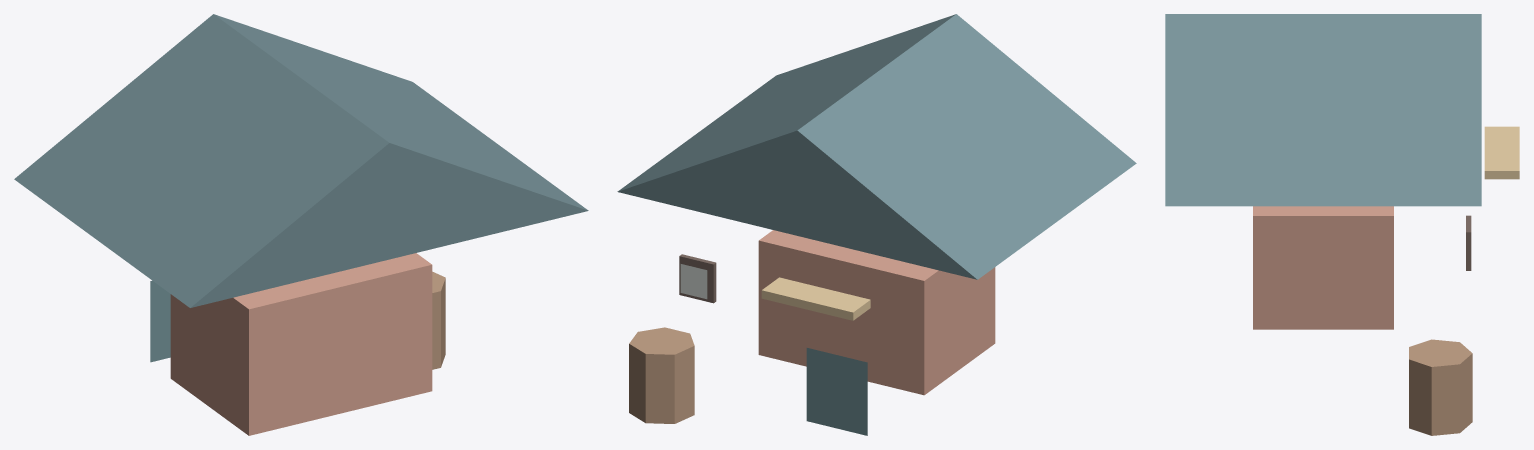
Rendered from harbour-repair-workshop-01.glb.
3 views of the same model, side by side, from view 1: azimuth 30°, elevation 25°; view 2: azimuth 150°, elevation 25°; view 3: azimuth 270°, elevation 25° (orthographic). The views are drawn at different scales.
Visible parts, largest first — view 1: WorkshopRoof, WorkshopBody, WorkshopDoor, RepairBarrel; view 2: WorkshopRoof, WorkshopBody, RepairBarrel, WorkshopDoor, Awning, WindowFrame, Window; view 3: WorkshopRoof, WorkshopBody, RepairBarrel, Awning.
Boxes of the visible parts, box(x1,y1,x2,y2) form: WorkshopRoof: box(14, 14, 588, 307); WorkshopBody: box(170, 253, 432, 435); WorkshopDoor: box(150, 280, 170, 362); RepairBarrel: box(432, 271, 445, 369); WorkshopRoof: box(617, 14, 1136, 279); WorkshopBody: box(758, 230, 995, 395); RepairBarrel: box(629, 327, 694, 423); WorkshopDoor: box(806, 348, 867, 435); Awning: box(761, 277, 870, 320); WindowFrame: box(679, 254, 716, 303); Window: box(680, 264, 707, 299); WorkshopRoof: box(1165, 14, 1481, 206); WorkshopBody: box(1253, 206, 1393, 329); RepairBarrel: box(1409, 339, 1472, 435); Awning: box(1484, 126, 1519, 179).
Size of the model in its own units: 2.75 by 2.41 by 2.33.
